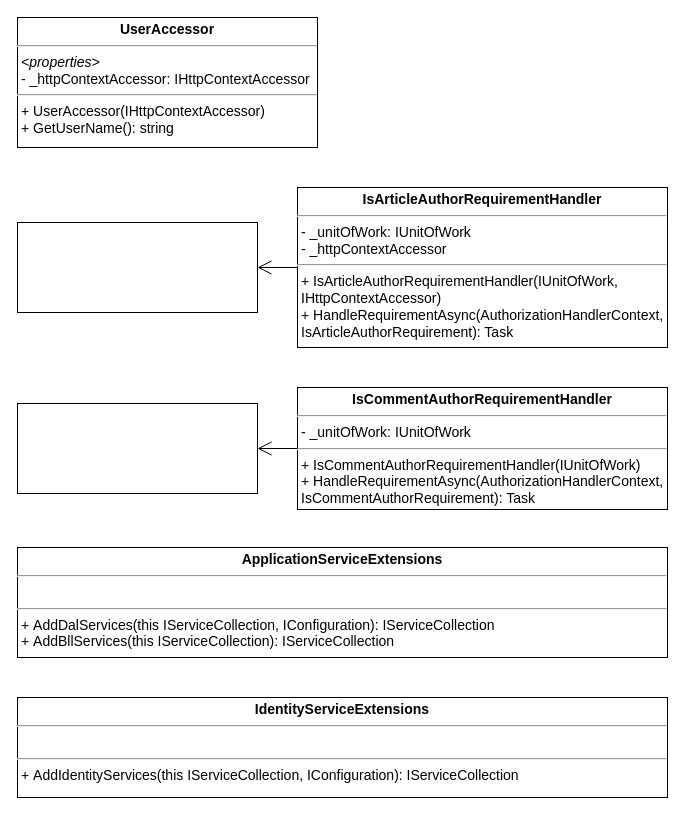
The diagram is 685 pixels wide and 815 high, and some of its shapes have lost their labels. The centre of each missing label's shape, as x and y in pixels:
"IsArticleAuthorRequirement" goes at [137,267].
"IsCommentAuthorRequirement" goes at [137,448].
